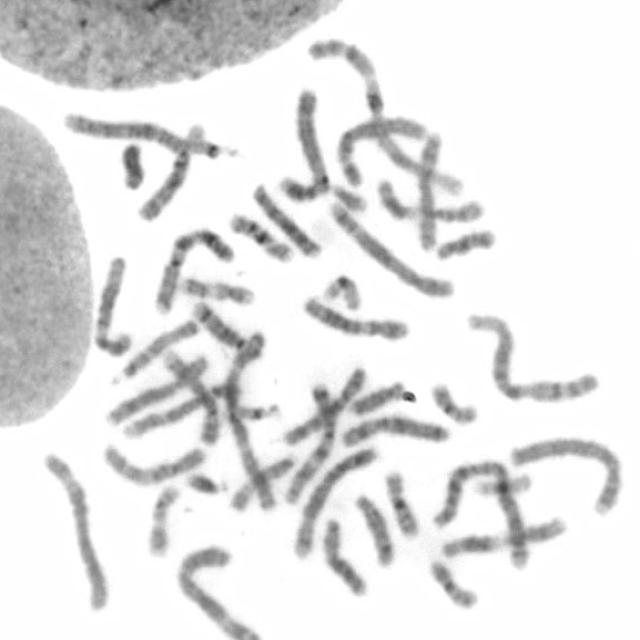A1: (304, 32, 469, 198), (464, 307, 602, 405)
A2: (58, 109, 192, 221), (432, 454, 534, 574)
A3: (220, 323, 278, 515), (170, 538, 270, 639)
B4: (505, 431, 623, 516), (274, 83, 331, 204)
B5: (325, 196, 458, 300), (288, 441, 382, 561)
C10: (282, 362, 368, 448), (98, 438, 210, 488)
C11: (435, 512, 570, 559), (372, 173, 486, 224)
C12: (298, 290, 410, 342), (89, 249, 134, 359)
C6: (37, 446, 112, 614), (334, 114, 428, 188)
C7: (146, 221, 238, 316), (280, 376, 338, 507)
C8: (101, 350, 210, 430), (413, 127, 446, 251)
C9: (120, 380, 242, 444), (157, 345, 223, 448)
D13: (248, 178, 324, 260), (317, 512, 372, 600)
D14: (349, 488, 396, 570), (188, 296, 246, 352)
D15: (108, 314, 203, 386), (226, 447, 298, 512)
E16: (223, 206, 297, 265), (378, 463, 423, 538)
E17: (141, 479, 183, 559), (175, 271, 258, 308)
E18: (346, 375, 408, 417), (433, 225, 498, 262)
F19: (317, 268, 365, 312), (471, 469, 534, 500)
F20: (422, 552, 482, 611), (426, 377, 479, 427)
G21: (327, 180, 368, 217), (182, 466, 231, 496)
G22: (184, 120, 243, 163), (218, 398, 284, 423)
X: (336, 409, 453, 449)
Y: (115, 137, 146, 191)
